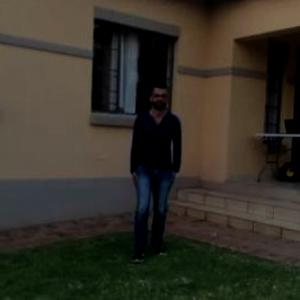follow: (129, 73, 187, 268)
